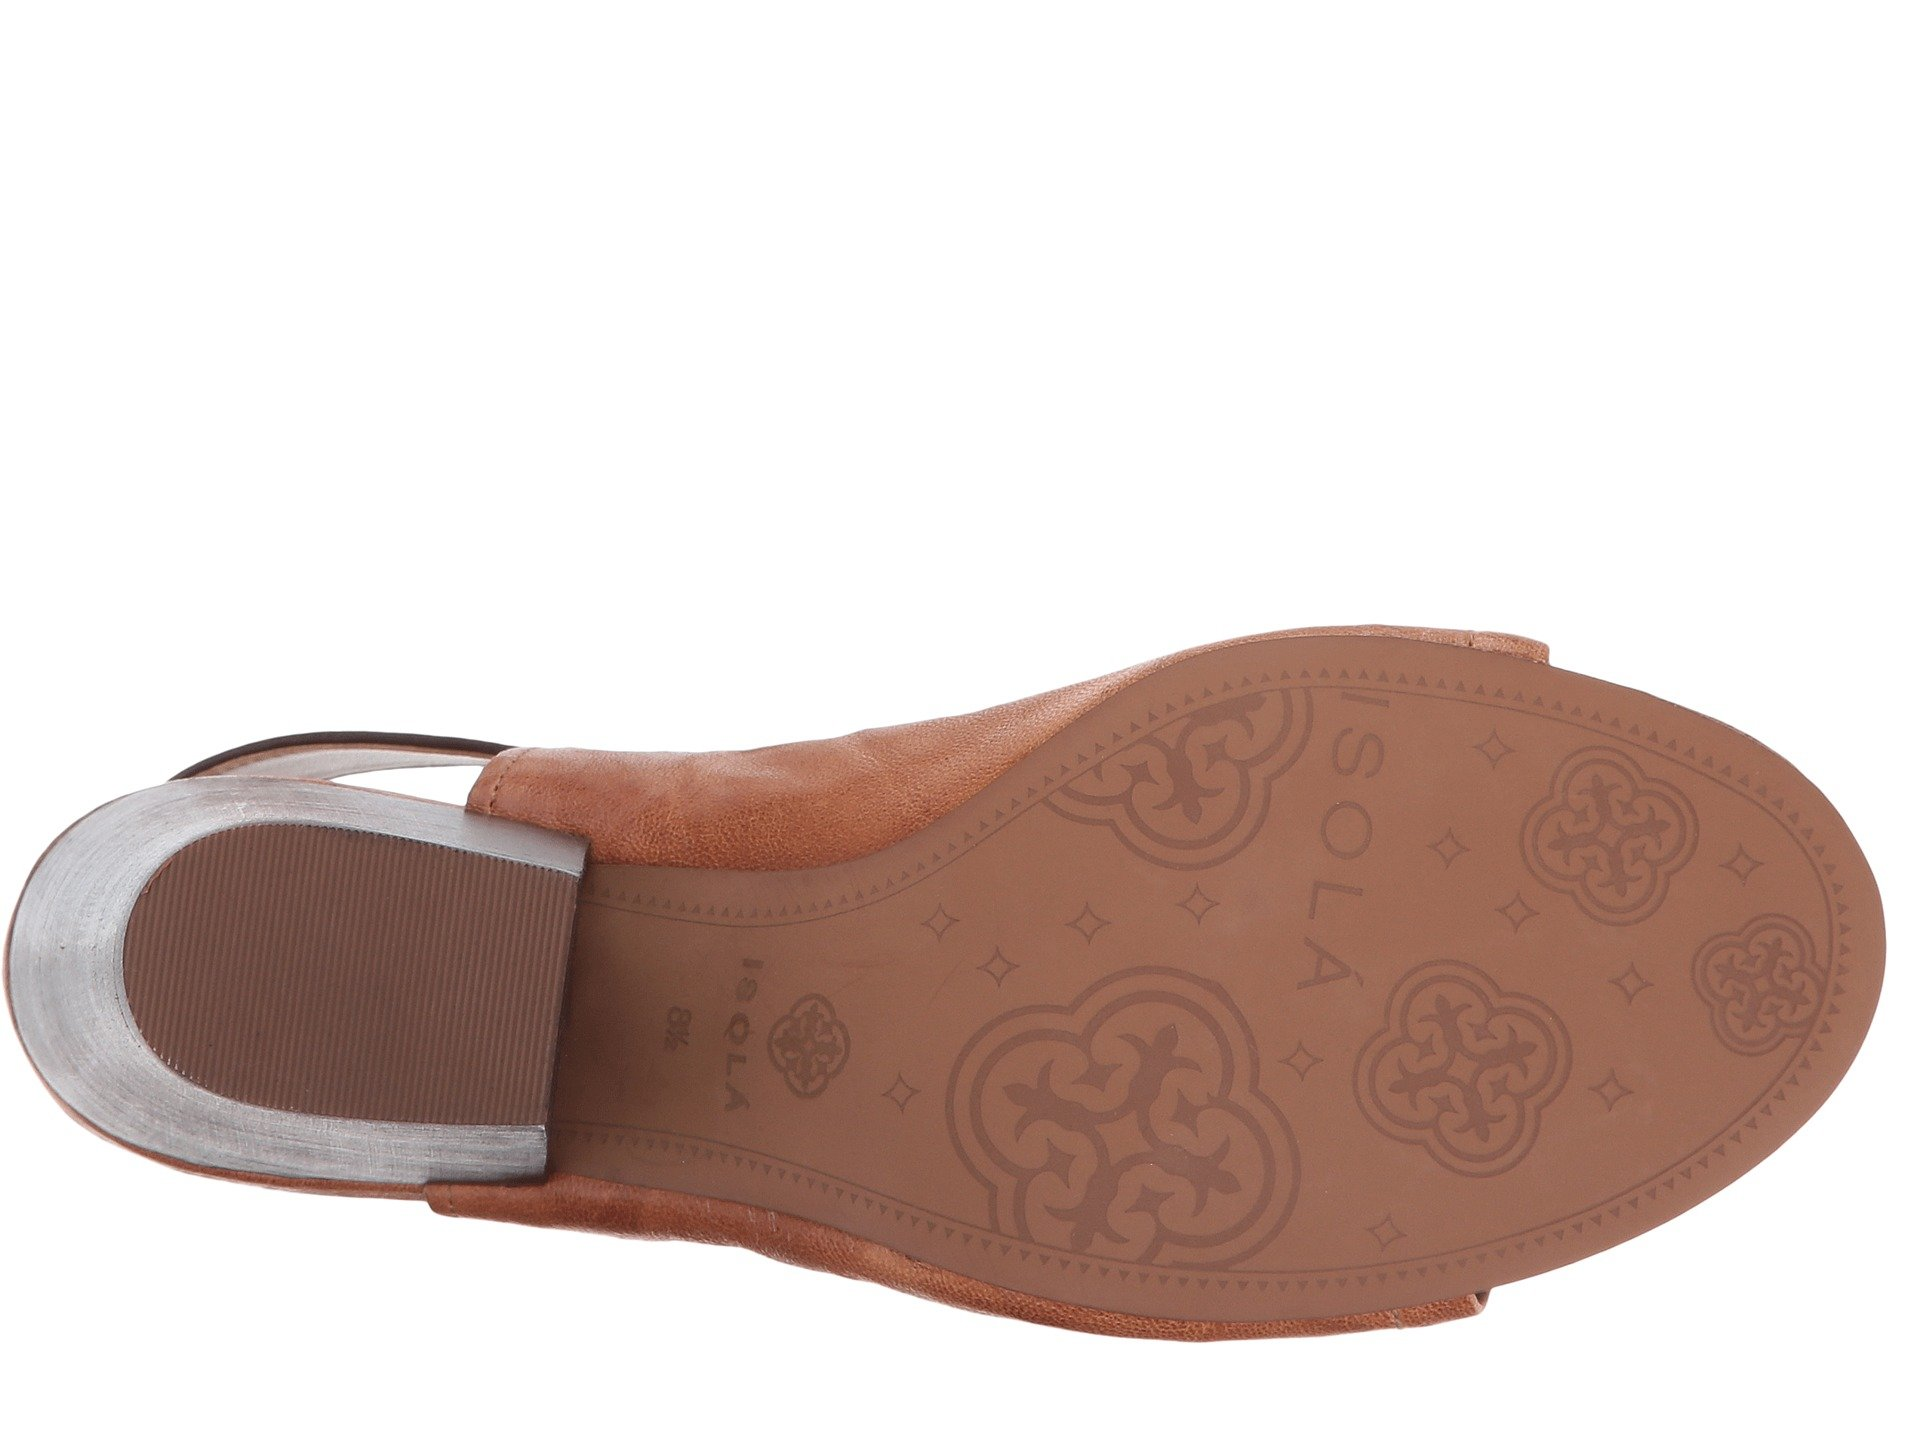circle: (1279, 697, 1485, 915)
quad: (893, 961, 1294, 1301), (1279, 697, 1485, 915)
star: (893, 961, 1294, 1301), (1318, 915, 1601, 1198), (1655, 852, 1846, 1094)
text: (1279, 697, 1485, 915)
